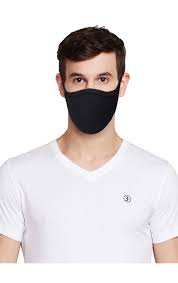with-mask: (46, 24, 144, 137)
